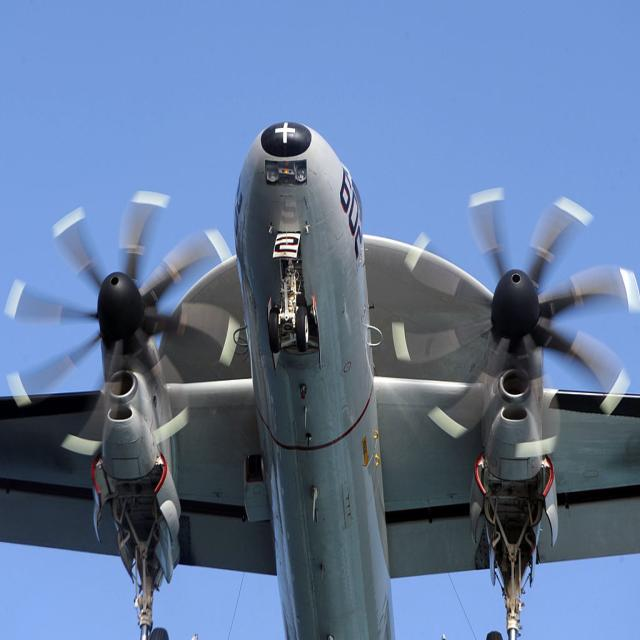MIL_Plane: (0, 70, 640, 589)
